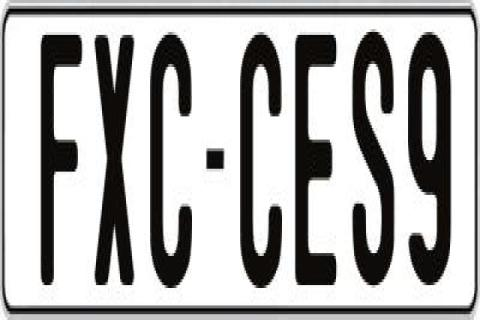0: (404, 29, 454, 291)
C: (236, 35, 286, 291), (149, 32, 197, 288)
E: (293, 29, 339, 282)
F: (40, 35, 88, 297)
S: (350, 32, 393, 296)
X: (94, 26, 140, 276)
